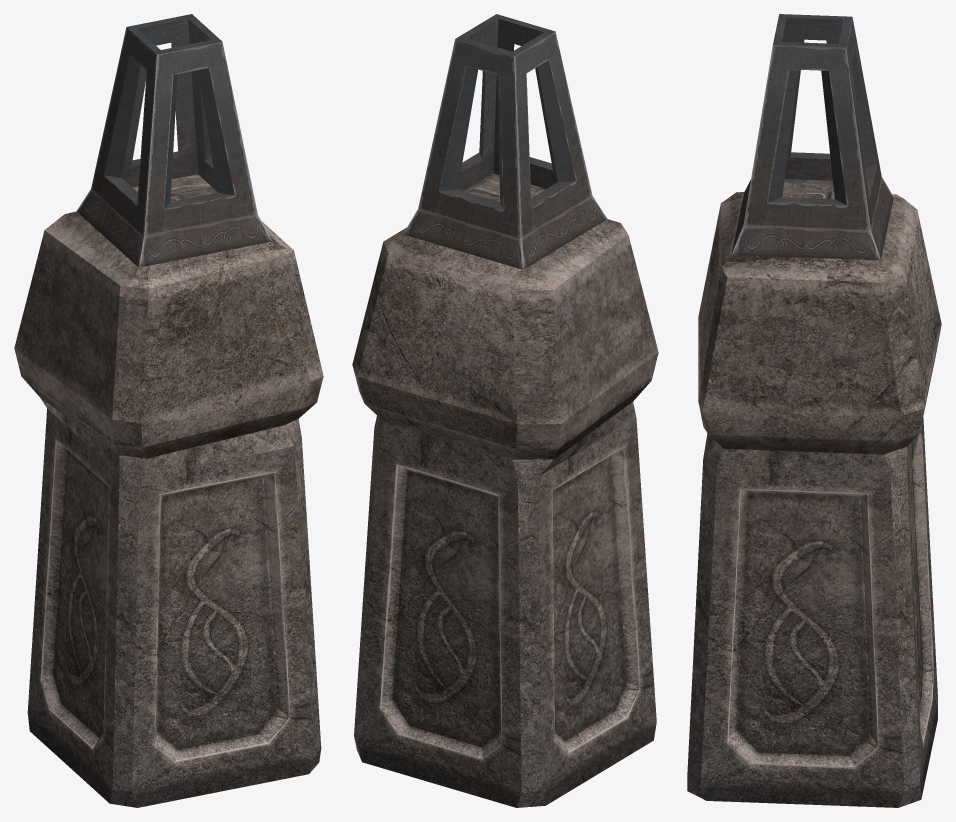
File: RockLight.FBX
3 views of the same model, side by side, from view 1: azimuth 30°, elevation 25°; view 2: azimuth 150°, elevation 25°; view 3: azimuth 270°, elevation 25° (orthographic).
Visible parts, largest first — view 1: Object028; view 2: Object028; view 3: Object028.
Part boxes in pixels (x1,y1,x2,y2): Object028: [14, 14, 323, 807]; Object028: [352, 14, 658, 807]; Object028: [687, 14, 941, 807].
Bounding box in the file's own units: 5.42 × 16.91 × 5.39.
